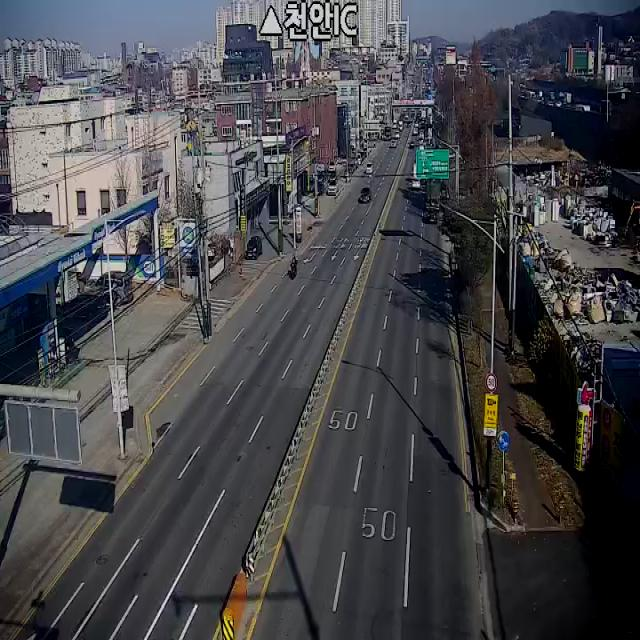Car: (95, 271, 133, 305), (245, 236, 262, 260), (359, 187, 372, 203), (328, 179, 338, 195), (366, 162, 373, 174)
